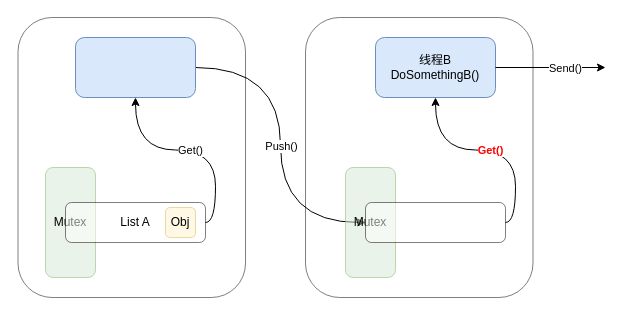
The diagram is 631 pixels wide and 315 high, and some of its shapes have lost their labels. The shapes that lost their labels are listed below. From the top down, each one's centre as x and y in pixels, then its label:
point (135, 67): 线程A DoSomethingA()
point (435, 222): List B
